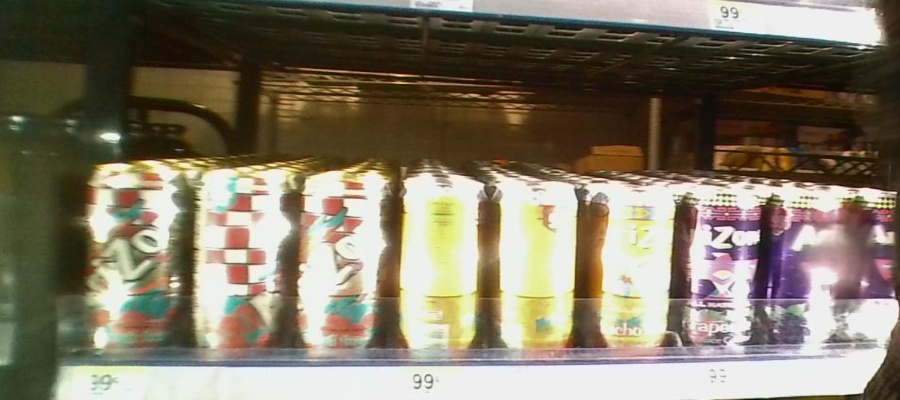bottle: (80, 144, 189, 359), (191, 154, 291, 366), (291, 148, 386, 361), (393, 159, 487, 368), (491, 163, 586, 366), (586, 169, 672, 363), (674, 170, 765, 353), (768, 173, 845, 360), (850, 180, 897, 361)
